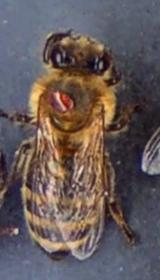varroa_mite: (41, 78, 80, 120)
